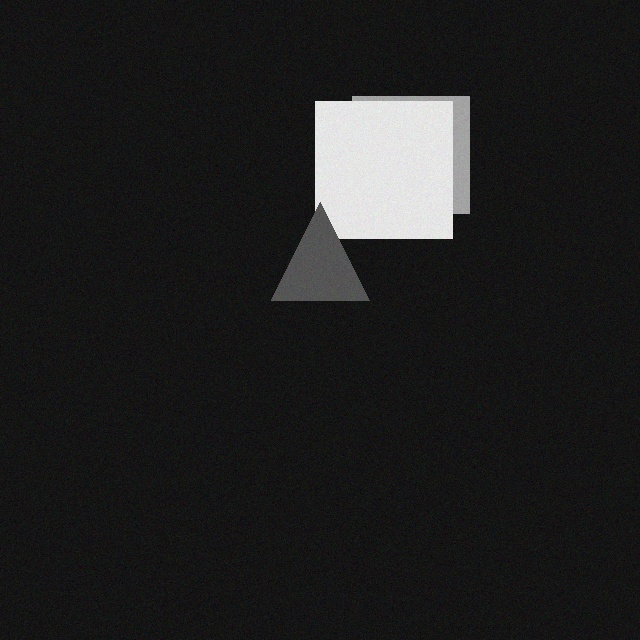square: (328, 99, 465, 236), (365, 94, 482, 211)
triangle: (284, 200, 382, 298)
